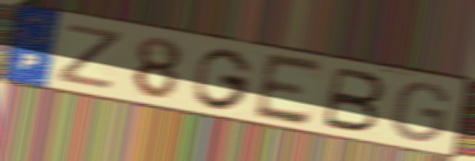8: (132, 36, 185, 102)
B: (318, 64, 389, 135)
E: (251, 50, 327, 129)
G: (191, 46, 256, 111), (389, 81, 452, 144)
Z: (54, 21, 127, 93)
